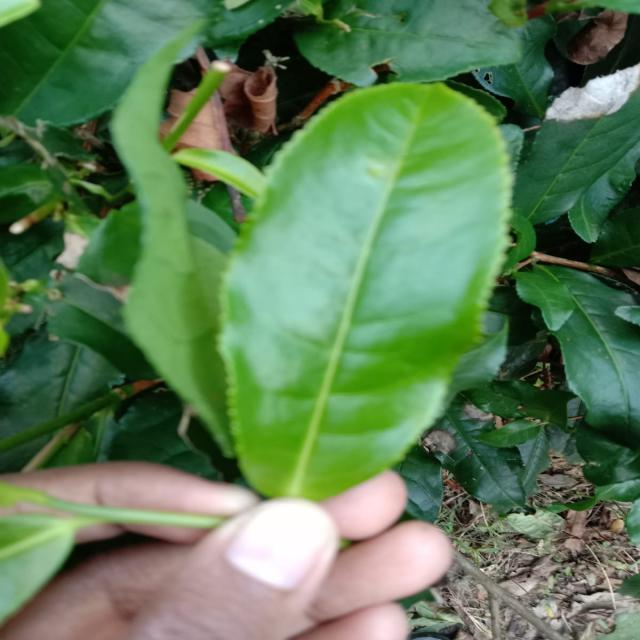Category C(4-7 days): (189, 63, 534, 523)
